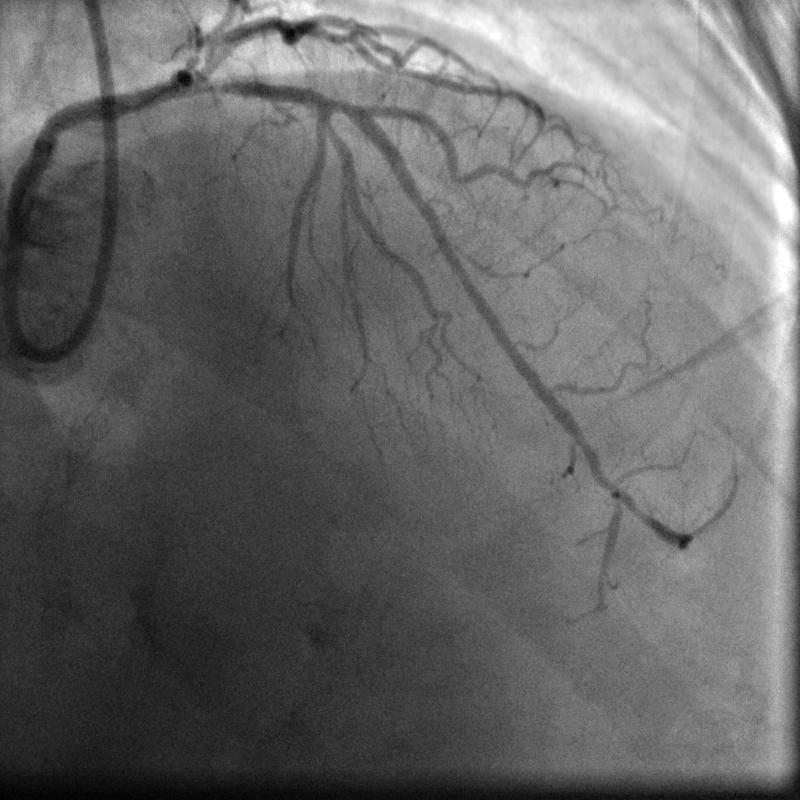Stenosis: (189, 73, 260, 99)
